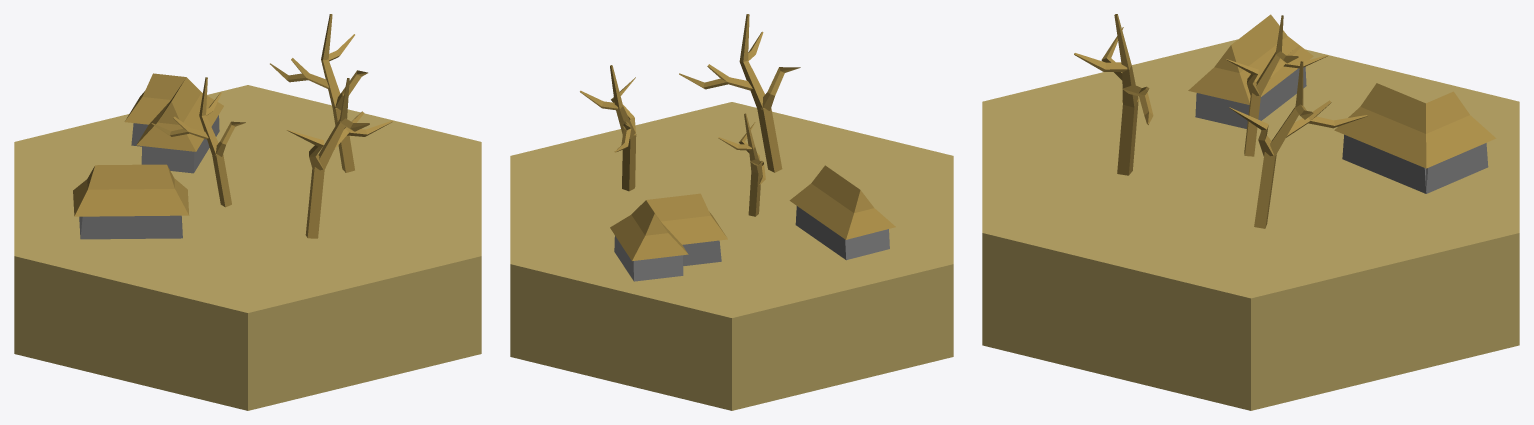
The model's file is Casas_Desertico_2.fbx.
3 renders of one model, left to right at view 1: azimuth 30°, elevation 25°; view 2: azimuth 150°, elevation 25°; view 3: azimuth 270°, elevation 25°, orthographic. The views are drawn at different scales.
Visible parts, largest first — view 1: Casas_Desertico_2; view 2: Casas_Desertico_2; view 3: Casas_Desertico_2.
Part boxes in pixels (box(x1,y1,x2,y2)): Casas_Desertico_2: box(14, 14, 481, 410); Casas_Desertico_2: box(510, 14, 953, 410); Casas_Desertico_2: box(982, 14, 1519, 410).
Bounding box in the file's own units: 200 × 103 × 173.
